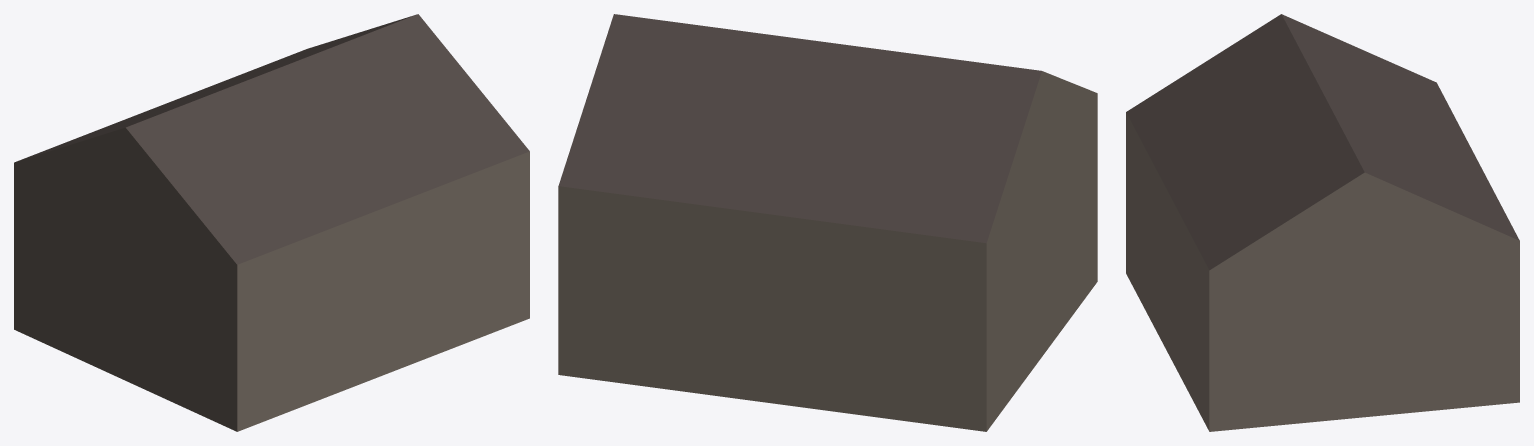
3 views of the same model, side by side, from view 1: azimuth 30°, elevation 25°; view 2: azimuth 150°, elevation 25°; view 3: azimuth 270°, elevation 25° (orthographic). The views are drawn at different scales.
Visible parts, largest first — view 1: HP-w369317541; view 2: HP-w369317541; view 3: HP-w369317541.
Boxes of the visible parts, x1,y1,x2,y2 form: HP-w369317541: (14, 14, 529, 431); HP-w369317541: (558, 14, 1097, 431); HP-w369317541: (1126, 14, 1519, 431).
Bounding box in the file's own units: 22.46 × 13.64 × 19.89.
